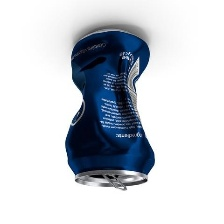can: (62, 23, 156, 194)
